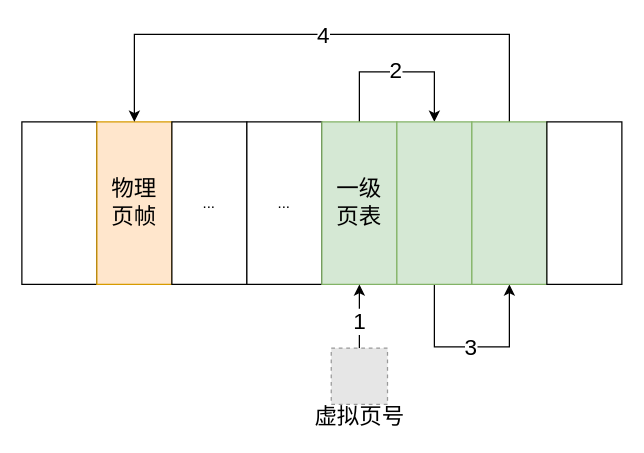
Some shapes in this 644 by 453 pixel diagram are drawn without their labels. Grey dashed boxes stand in for pictures. Here are the shapes that lost their labels. From the top down, the centre of each, then its label:
pixel 434 202: 二级 页表
pixel 509 202: 三级 页表
